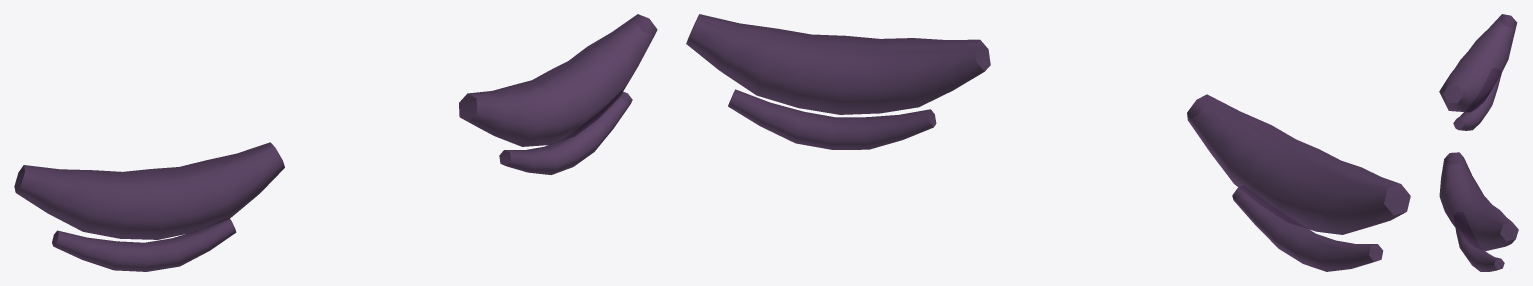
The model's file is Char_Face_Bags.fbx.
3 renders of one model, left to right at view 1: azimuth 30°, elevation 25°; view 2: azimuth 150°, elevation 25°; view 3: azimuth 270°, elevation 25°, orthographic. The views are drawn at different scales.
Visible parts, largest first — view 1: Bags; view 2: Bags; view 3: Bags.
Part boxes in pixels (<box>): Bags: <box>14,14,657,271</box>; Bags: <box>686,14,1410,271</box>; Bags: <box>1439,14,1518,271</box>.
Bounding box in the file's own units: 70.36 × 11.42 × 11.03.
